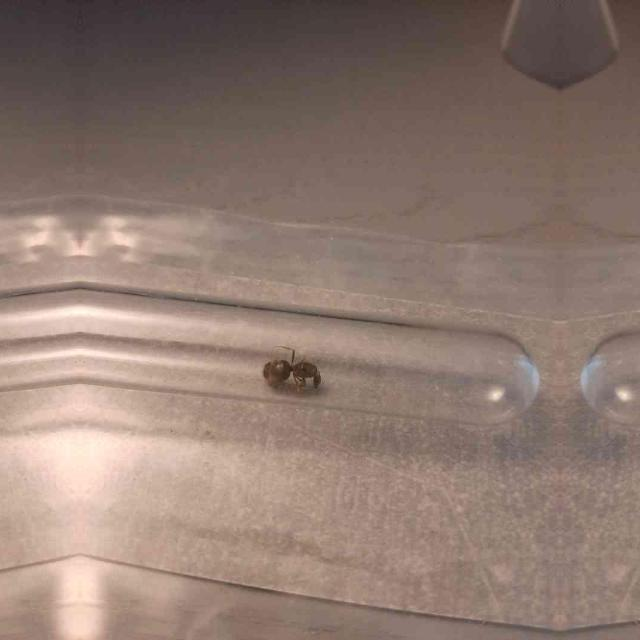Lasius: (260, 346, 324, 404)
